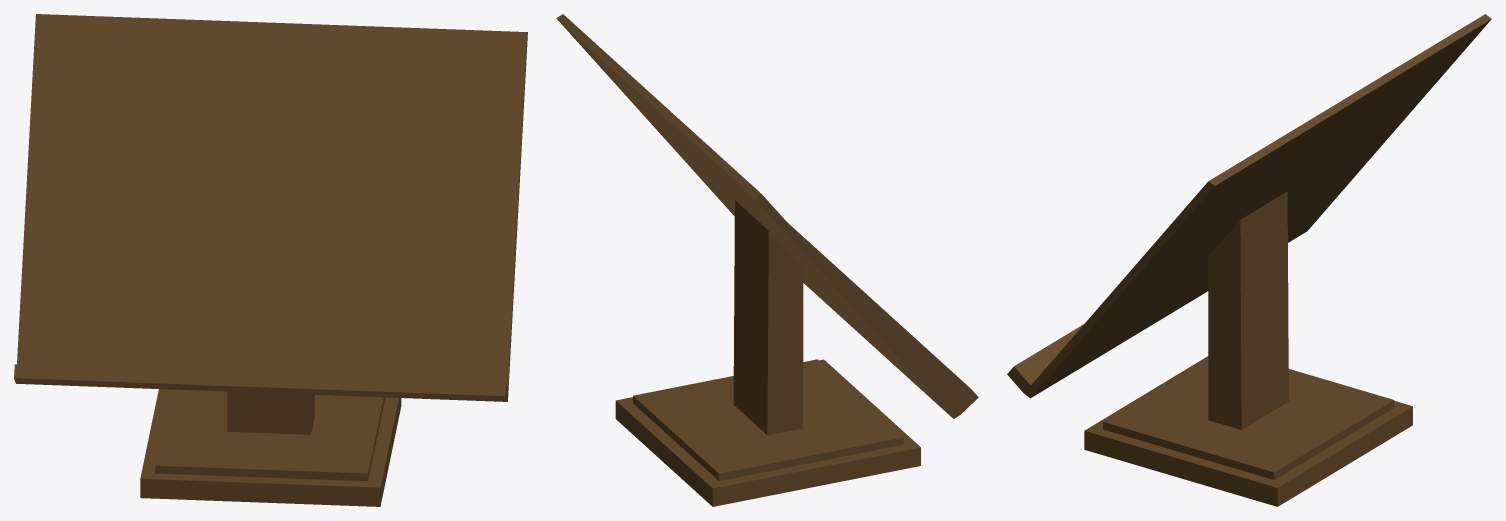
The model's file is Book_Stand.fbx.
3 views of the same model, side by side, from view 1: azimuth 30°, elevation 25°; view 2: azimuth 150°, elevation 25°; view 3: azimuth 270°, elevation 25° (orthographic). The views are drawn at different scales.
Parts seen in each view (by area): view 1: BookStand.003; view 2: BookStand.003; view 3: BookStand.003.
Boxes of the visible parts, box(x1,y1,x2,y2) form: BookStand.003: box(14, 14, 527, 506); BookStand.003: box(556, 14, 978, 506); BookStand.003: box(1007, 14, 1491, 506).
Bounding box in the file's own units: 62.94 × 47.35 × 56.4.
